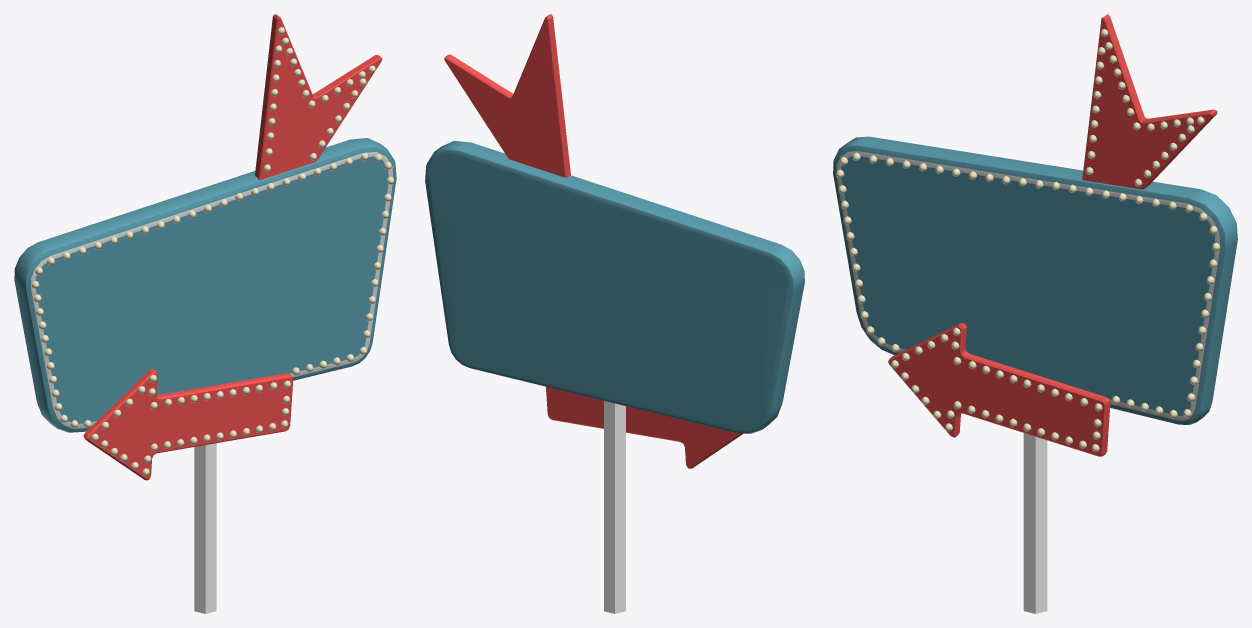
The model's file is Ad_Board_06.fbx.
3 views of the same model, side by side, from view 1: azimuth 30°, elevation 25°; view 2: azimuth 150°, elevation 25°; view 3: azimuth 330°, elevation 25° (orthographic). The views are drawn at different scales.
Visible parts, largest first — view 1: polySurface17, Poster_01_2, Poster_01_1, Pole_06; view 2: polySurface17, Poster_01_1, Poster_01_2, Pole_06; view 3: polySurface17, Poster_01_2, Poster_01_1, Pole_06.
Boxes of the visible parts, x1,y1,x2,y2 form: polySurface17: [14, 138, 396, 432]; Poster_01_2: [83, 369, 293, 480]; Poster_01_1: [255, 14, 382, 179]; Pole_06: [194, 443, 216, 613]; polySurface17: [425, 141, 804, 433]; Poster_01_1: [444, 14, 570, 177]; Poster_01_2: [546, 386, 743, 468]; Pole_06: [604, 401, 625, 613]; polySurface17: [833, 136, 1237, 424]; Poster_01_2: [888, 322, 1110, 456]; Poster_01_1: [1082, 14, 1217, 189]; Pole_06: [1023, 433, 1047, 613].
Size of the model in its own units: 6.81 by 10.05 by 0.6207.
1 material, 1 textured.
